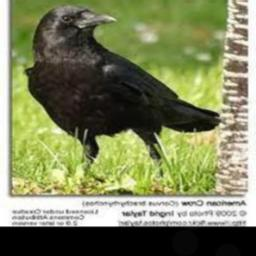Crow: (23, 3, 223, 194)
